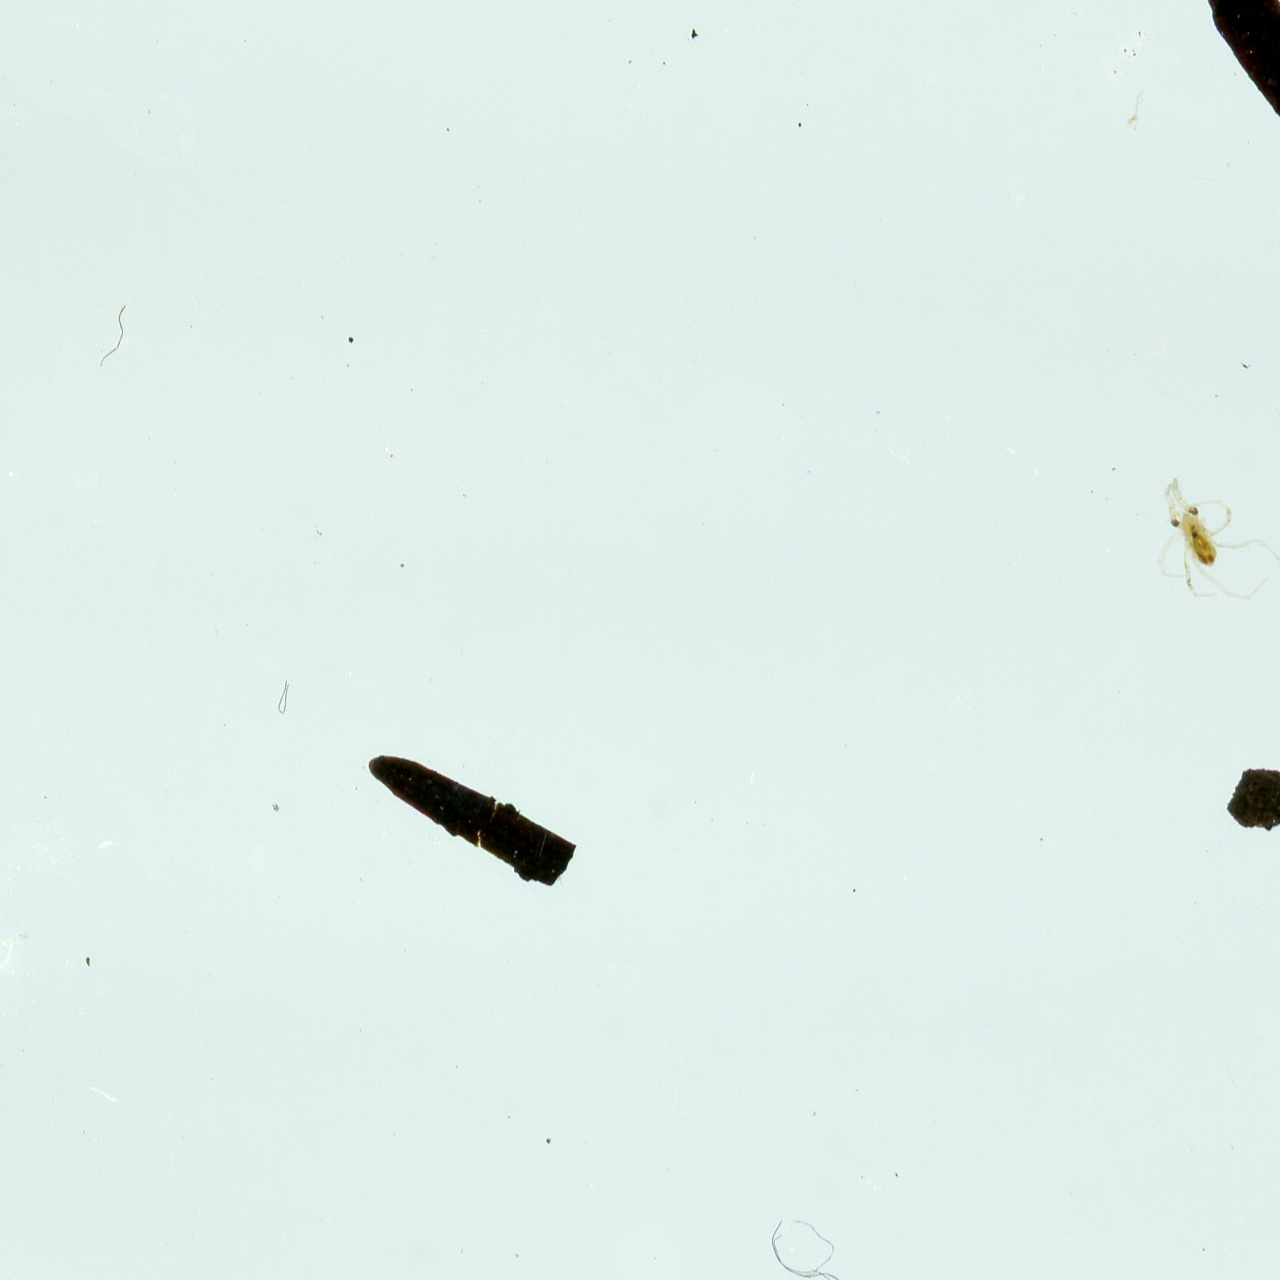arthropod: (1143, 467, 1280, 617), (0, 501, 13, 613)
